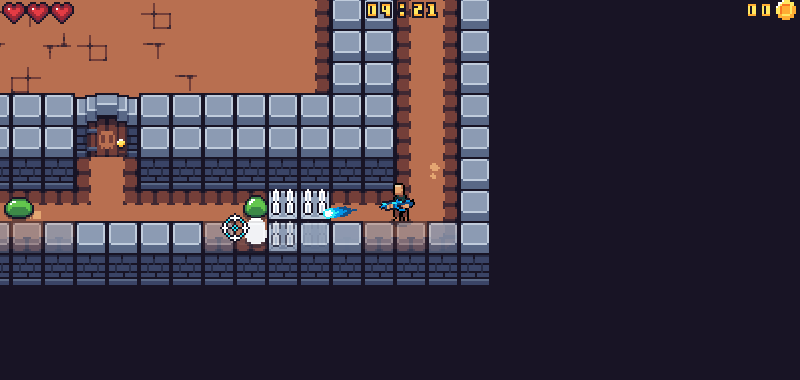door: (70, 91, 143, 158)
enemy_slug: (243, 192, 270, 220), (4, 196, 35, 219)
trap_on: (267, 186, 330, 252)
